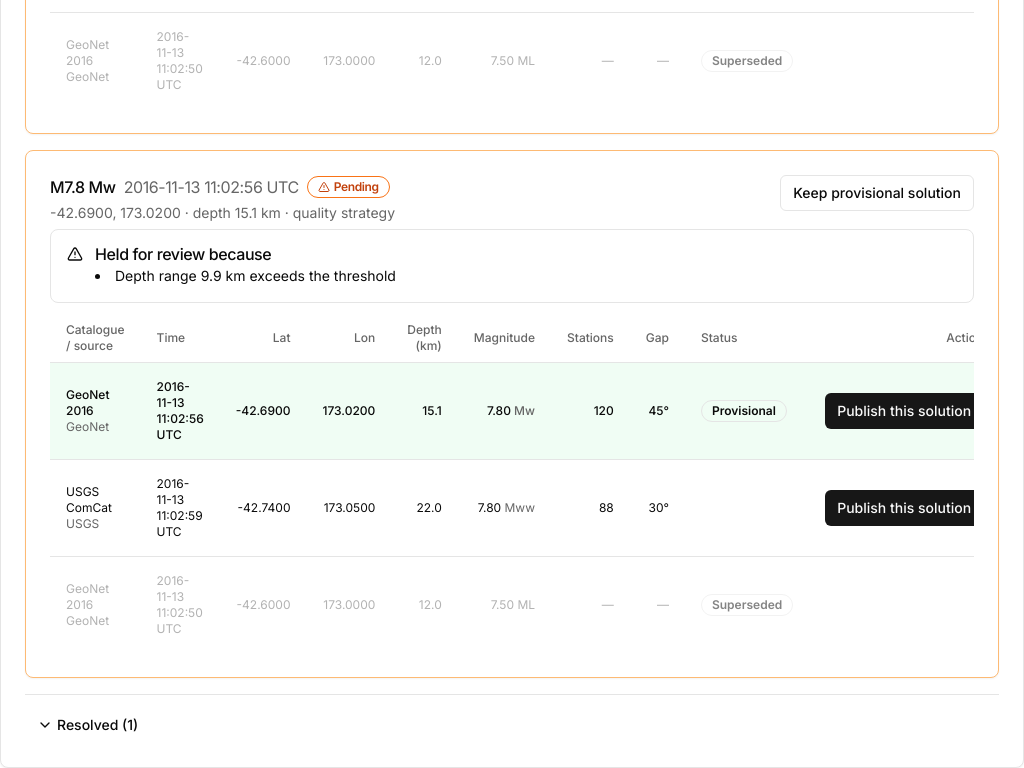
Test: deciding › keeps the provisional solution with choice "keep" and moves the event into an already open resolved list
(page scrolled)
Step 1. Click the button "Resolved (1)" → (88, 725), box [25,707,150,743]
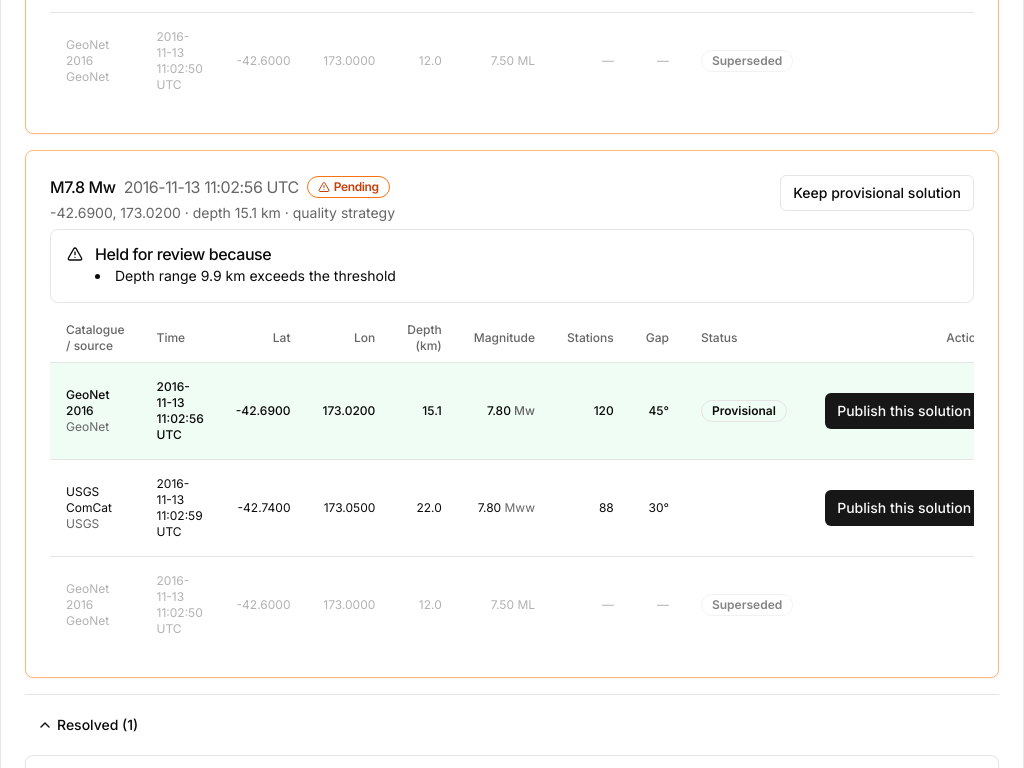
Step 2. Click the button "Keep provisional solution" → (877, 192), box [780,174,974,210]
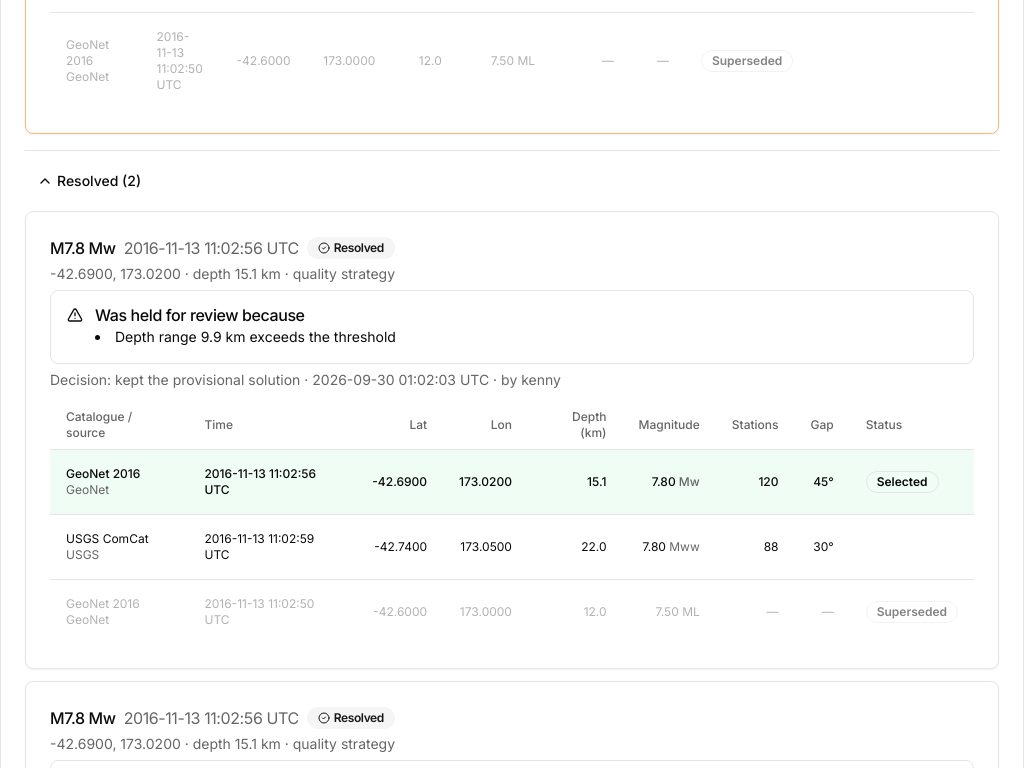
expect the button "Keep provisional solution" is not shown: met
expect the text with test id "review-decision" shows "Decision: kept the provisional solution": met, box [50,370,300,388]
expect the button "Resolved (2)" is shown: met, box [25,162,153,198]
